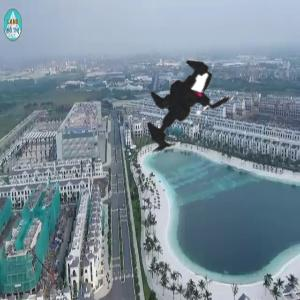drone: (112, 35, 264, 187)
